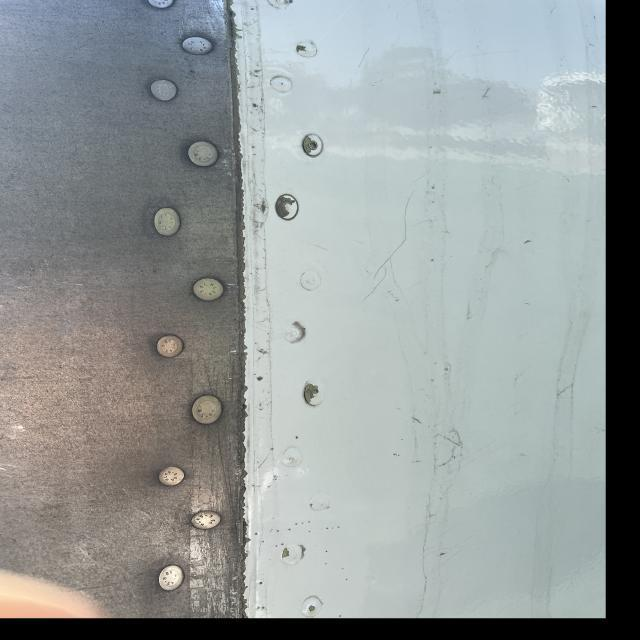crack: (365, 191, 438, 312), (411, 427, 473, 474)
